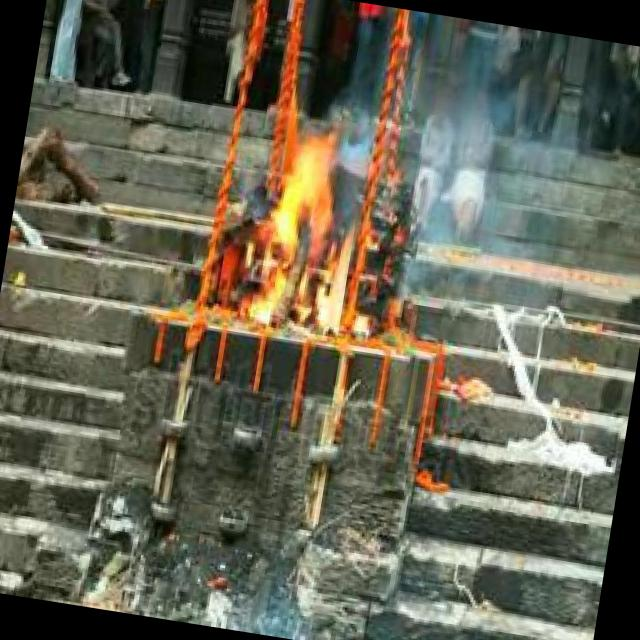Fire: (240, 124, 398, 344)
